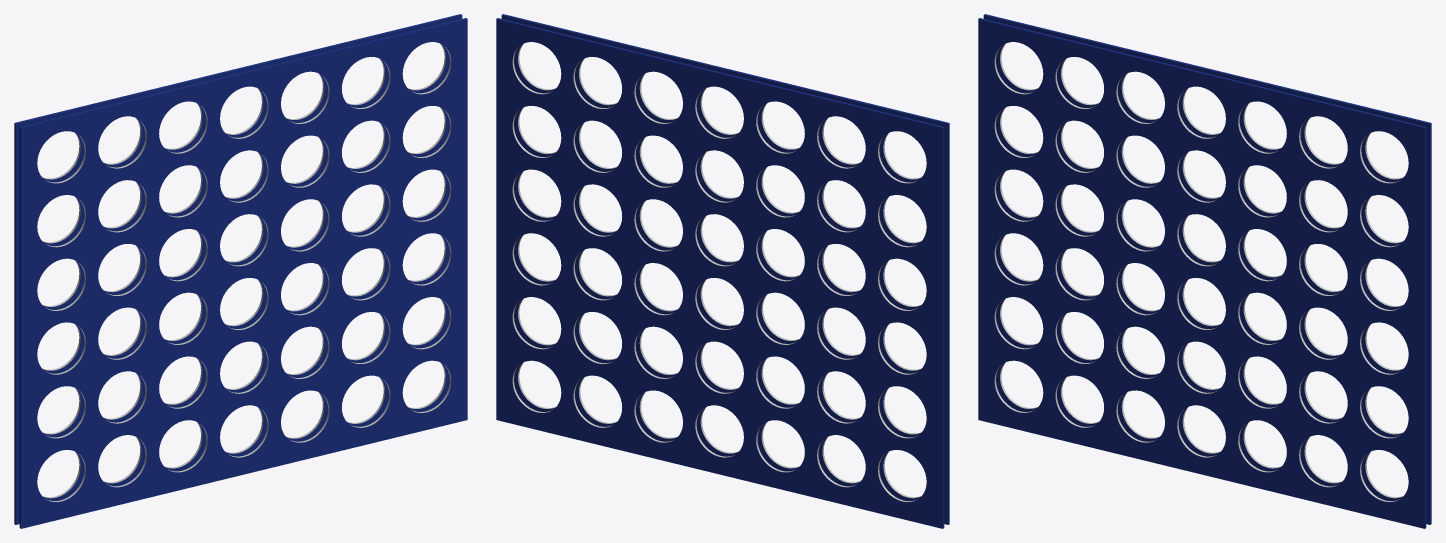
The model's file is VierGewinnt.dae.
3 renders of one model, left to right at view 1: azimuth 30°, elevation 25°; view 2: azimuth 150°, elevation 25°; view 3: azimuth 330°, elevation 25°, orthographic.
Visible parts, largest first — view 1: Würfel, Würfel.1; view 2: Würfel.1, Würfel; view 3: Würfel, Würfel.1.
Boxes of the visible parts, x1,y1,x2,y2 form: Würfel: [19, 18, 467, 528]; Würfel.1: [14, 14, 462, 524]; Würfel.1: [496, 18, 944, 528]; Würfel: [501, 14, 949, 524]; Würfel: [978, 18, 1426, 528]; Würfel.1: [983, 14, 1431, 524].
Bounding box in the file's own units: 550 × 472 × 14.44.
